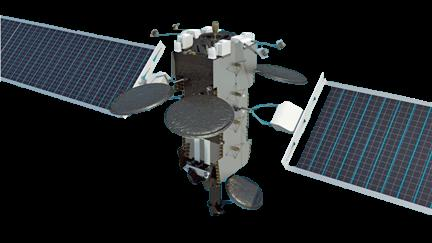antenna: (162, 93, 236, 141), (108, 82, 174, 115), (224, 173, 266, 211), (254, 62, 309, 87), (251, 36, 289, 51), (242, 41, 270, 60), (225, 82, 245, 104), (226, 58, 246, 78), (149, 28, 182, 39), (229, 113, 245, 133), (170, 22, 200, 32), (228, 141, 243, 160)
body: (169, 29, 260, 186)
solar: (280, 71, 432, 216), (0, 13, 168, 121)
thruster: (211, 18, 220, 41)
